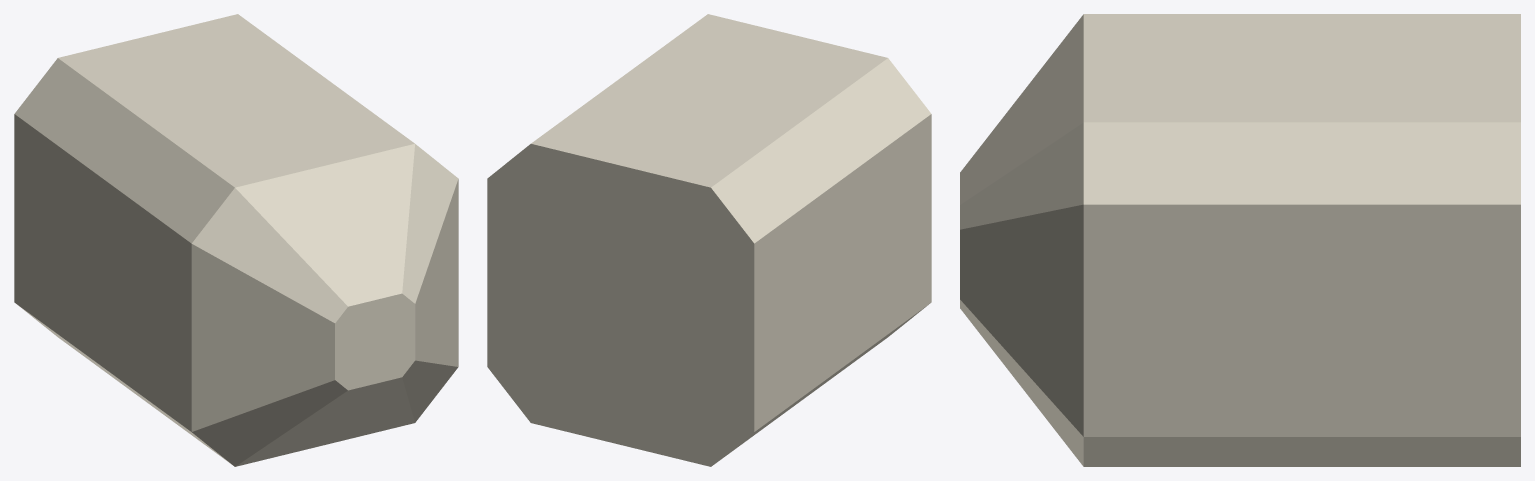
The model's file is pellet_shell.obj.
3 views of the same model, side by side, from view 1: azimuth 30°, elevation 25°; view 2: azimuth 150°, elevation 25°; view 3: azimuth 270°, elevation 25° (orthographic). The views are drawn at different scales.
Visible parts, largest first — view 1: pellet_shell; view 2: pellet_shell; view 3: pellet_shell.
Part boxes in pixels (x1,y1,x2,y2): pellet_shell: [14, 14, 458, 466]; pellet_shell: [487, 14, 931, 466]; pellet_shell: [960, 14, 1520, 466].
Size of the model in its own units: 0.8 by 0.8 by 1.18.
